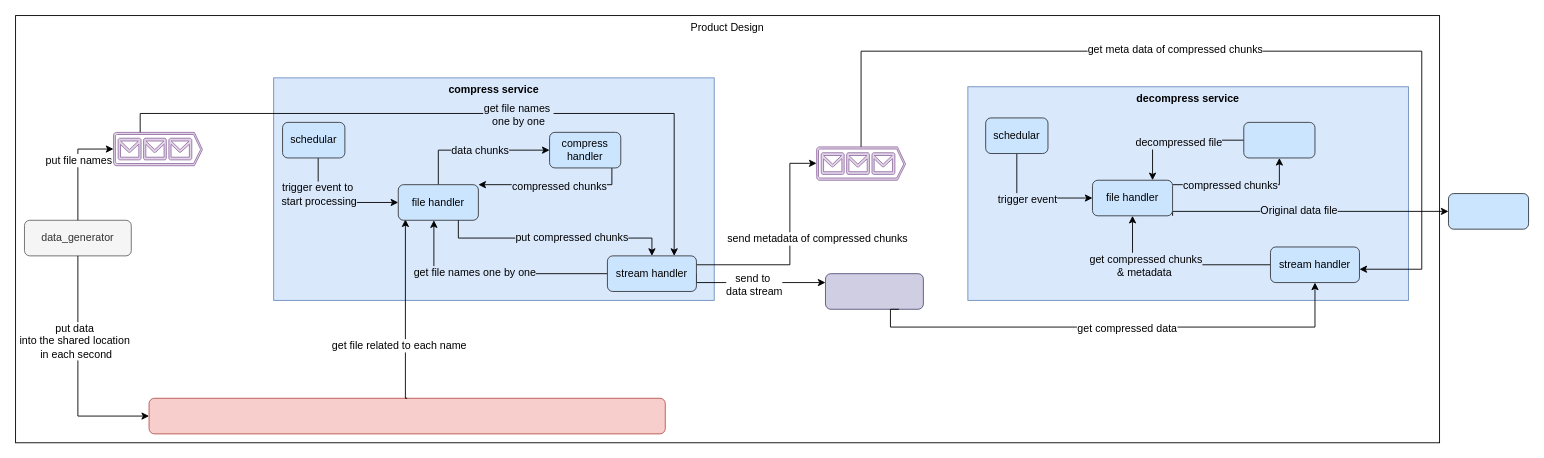
Some shapes in this 1544 by 458 pixel diagram are drawn without their labels. Each missing label, with the centre of its shape:
data stream: [874,291]
decompress handler: [1279,139]
output file: [1488,211]
Queue to hold file names: [157,148]
Queue to hold meta data: [861,163]
Shared volume: [406,415]
